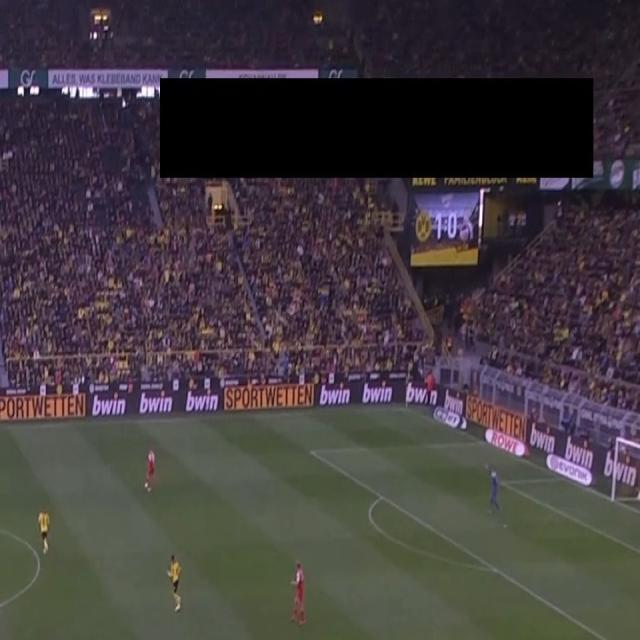ball: (143, 480, 149, 491)
